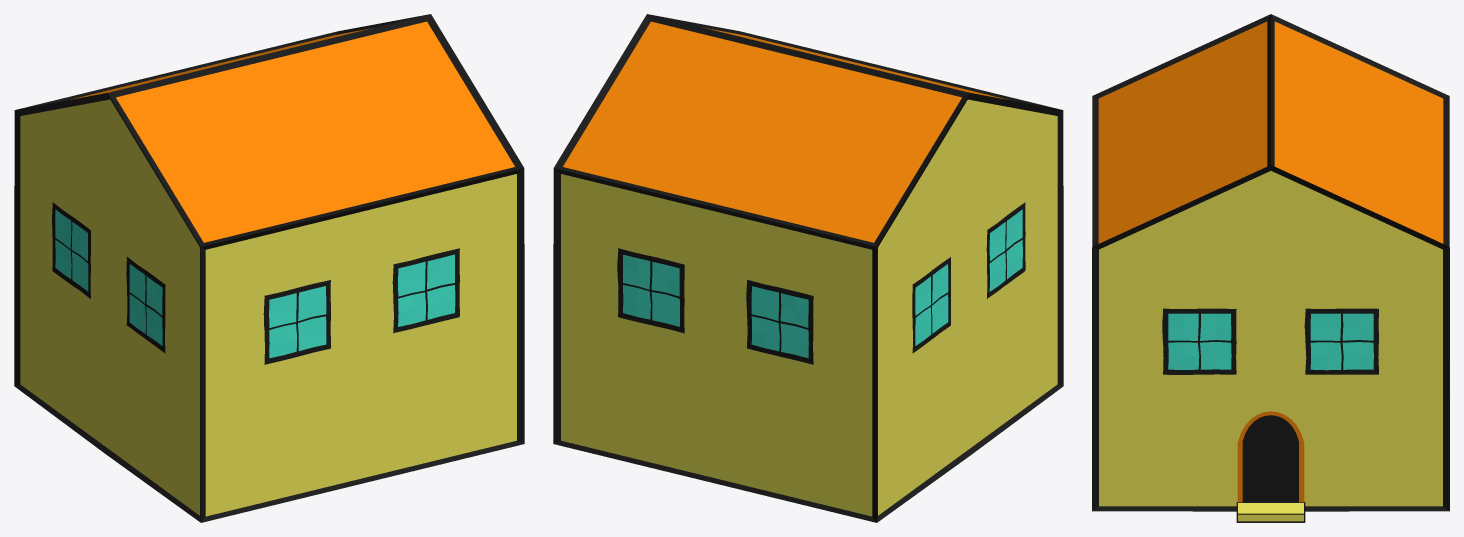
The model's file is house.glb.
The picture shows the model from 3 angles, left to right: view 1: azimuth 30°, elevation 25°; view 2: azimuth 150°, elevation 25°; view 3: azimuth 270°, elevation 25°; orthographic projection. The views are drawn at different scales.
Visible parts, largest first — view 1: Cube, windows.001, windows.003; view 2: Cube, windows.002, windows.003; view 3: Cube, windows, door, Cube.001.
Part boxes in pixels (box(x1,y1,x2,y2)): Cube: box(14, 14, 524, 522); windows.001: box(263, 248, 459, 364); windows.003: box(52, 202, 165, 352); Cube: box(553, 14, 1063, 522); windows.002: box(617, 248, 813, 364); windows.003: box(912, 202, 1025, 352); Cube: box(1092, 14, 1449, 511); windows: box(1162, 308, 1378, 374); door: box(1237, 411, 1304, 502); Cube.001: box(1236, 502, 1305, 522).
Bounding box in the file's own units: 4.32 × 4.3 × 4.02.
